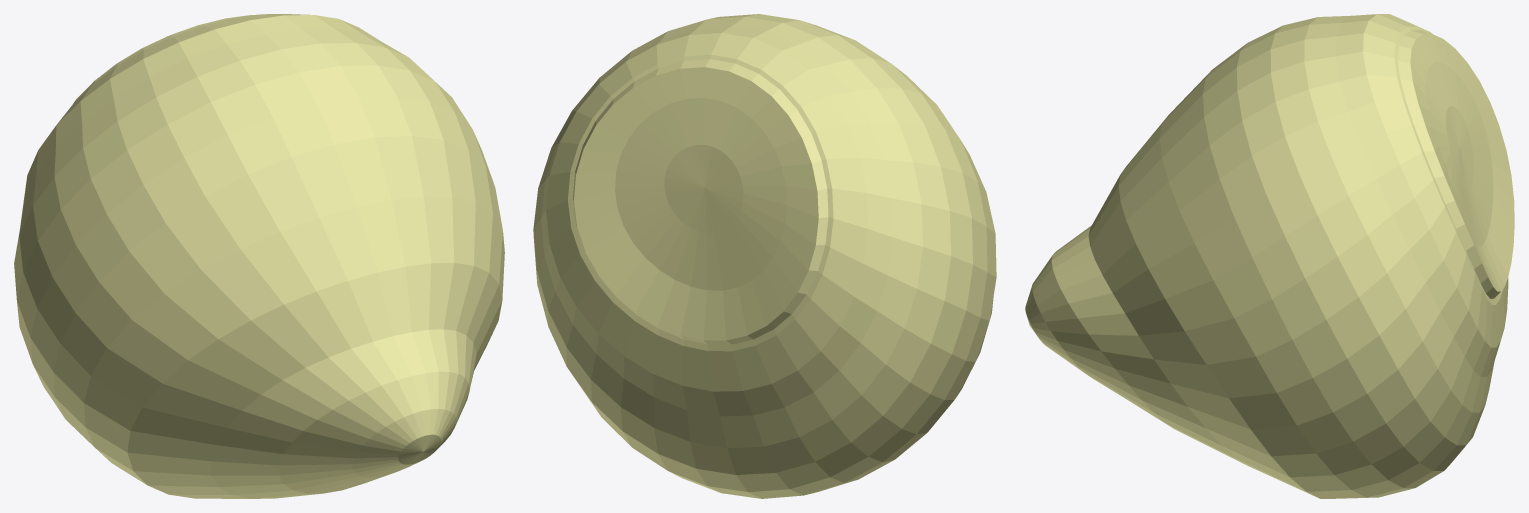
The model's file is d_Airdbag.fbx.
3 renders of one model, left to right at view 1: azimuth 30°, elevation 25°; view 2: azimuth 150°, elevation 25°; view 3: azimuth 270°, elevation 25°, orthographic. The views are drawn at different scales.
Parts seen in each view (by area): view 1: Sphere; view 2: Sphere; view 3: Sphere.
Part boxes in pixels (box(x1,y1,x2,y2)): Sphere: box(14, 14, 504, 498); Sphere: box(533, 14, 996, 498); Sphere: box(1025, 14, 1514, 498).
Bounding box in the file's own units: 72 × 73.16 × 72.99.
